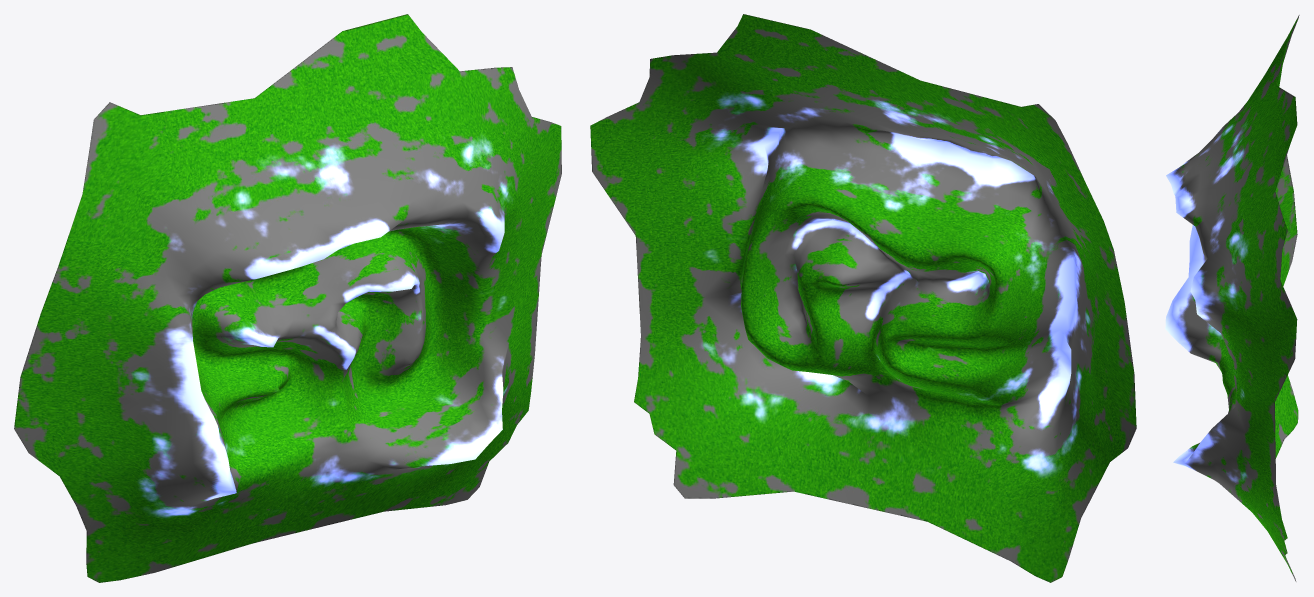
The picture shows the model from 3 angles, left to right: view 1: azimuth 30°, elevation 25°; view 2: azimuth 150°, elevation 25°; view 3: azimuth 270°, elevation 25°; orthographic projection. The views are drawn at different scales.
Parts seen in each view (by area): view 1: mountain; view 2: mountain; view 3: mountain.
Part boxes in pixels (x1,y1,x2,y2): mountain: (14,14,561,582); mountain: (590,14,1136,582); mountain: (1165,15,1299,581).
Size of the model in its own units: 5.81 by 5.08 by 1.43.
Materials: 1 (1 with a texture image).
